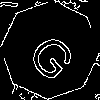G: (25, 25, 85, 85)
